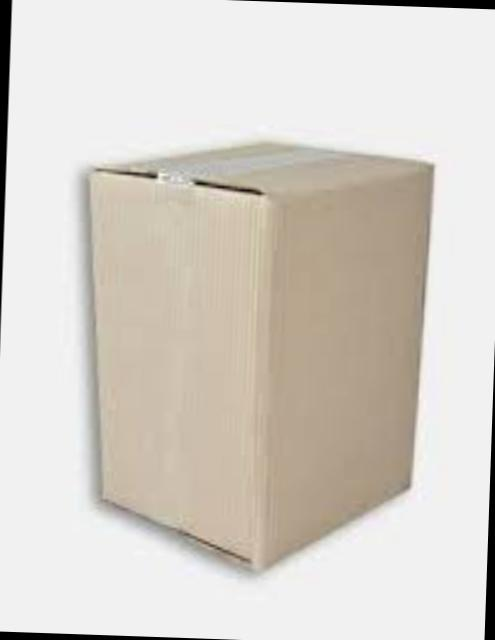cardboard paper: (85, 139, 426, 563)
